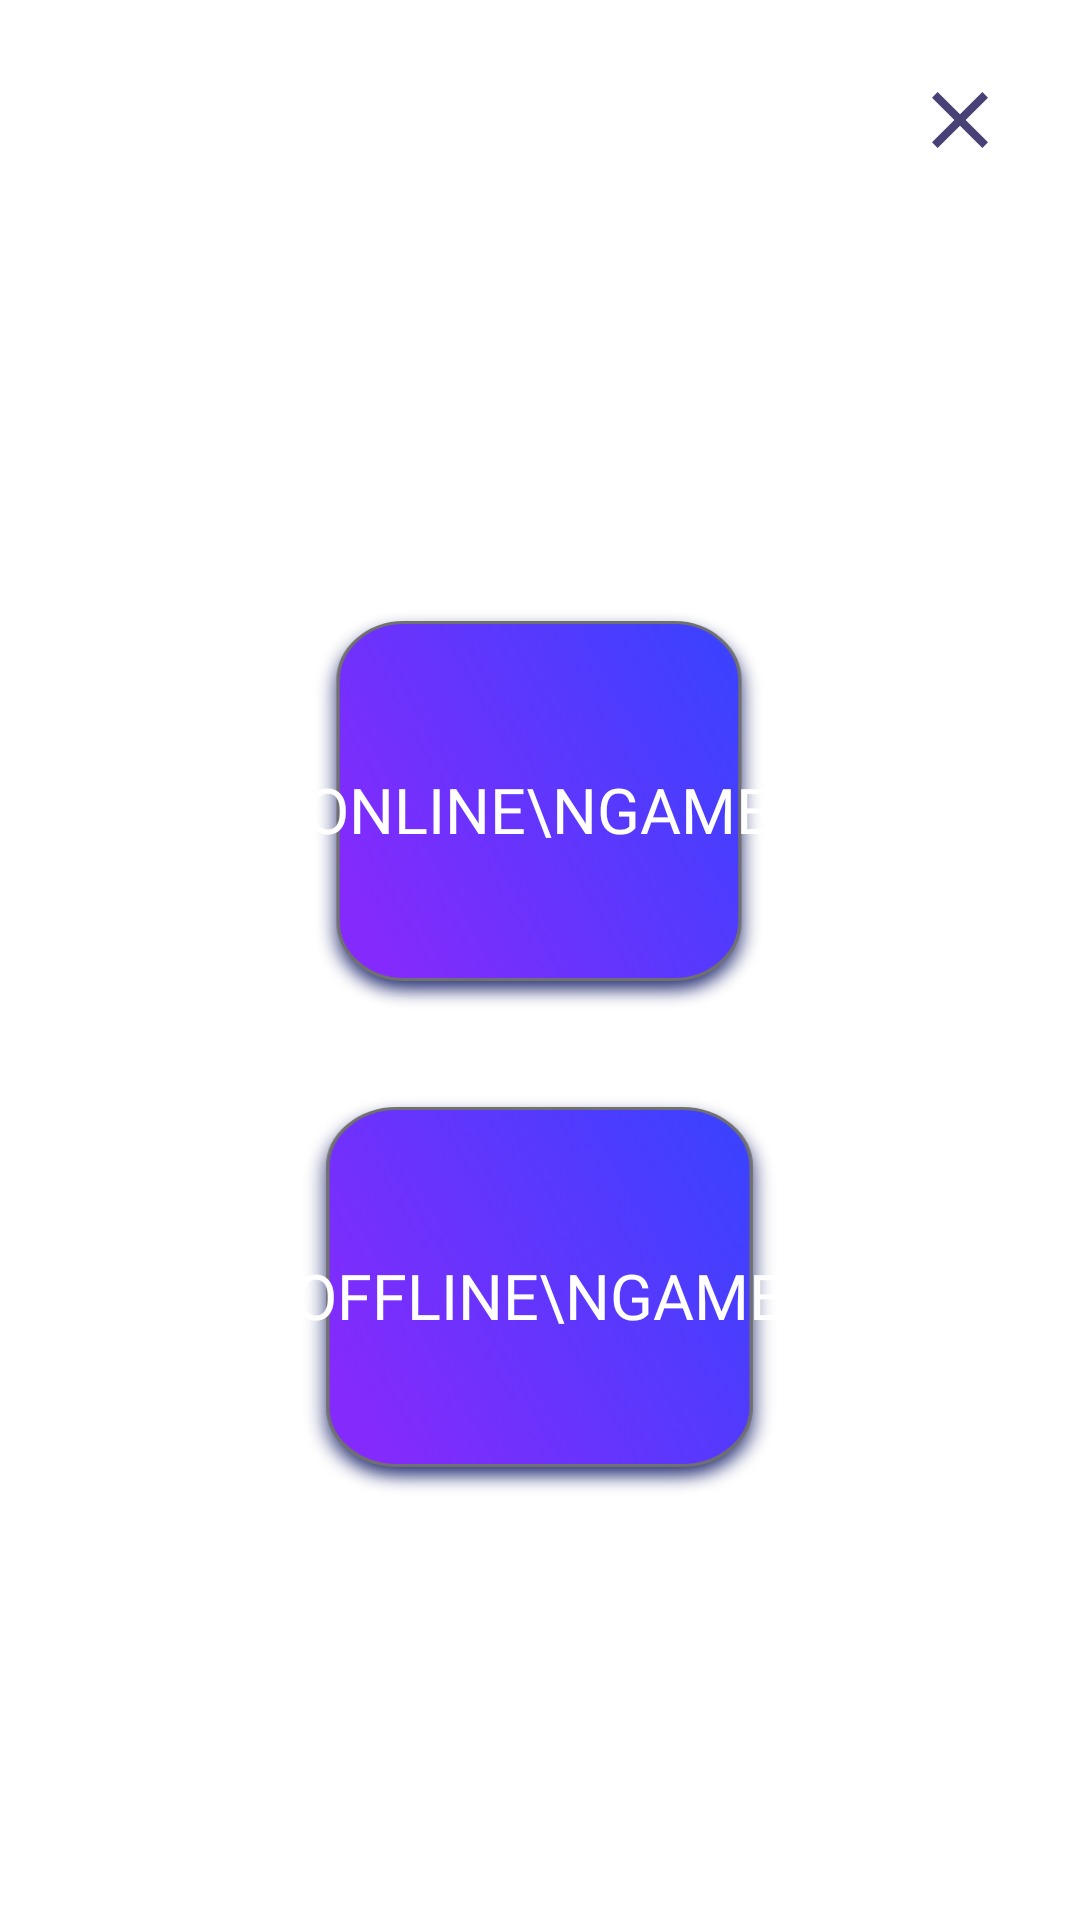

Icon click points for this 1080*1920 phone screenshot, format point (x, y):
cancel iv: point (960, 120)
